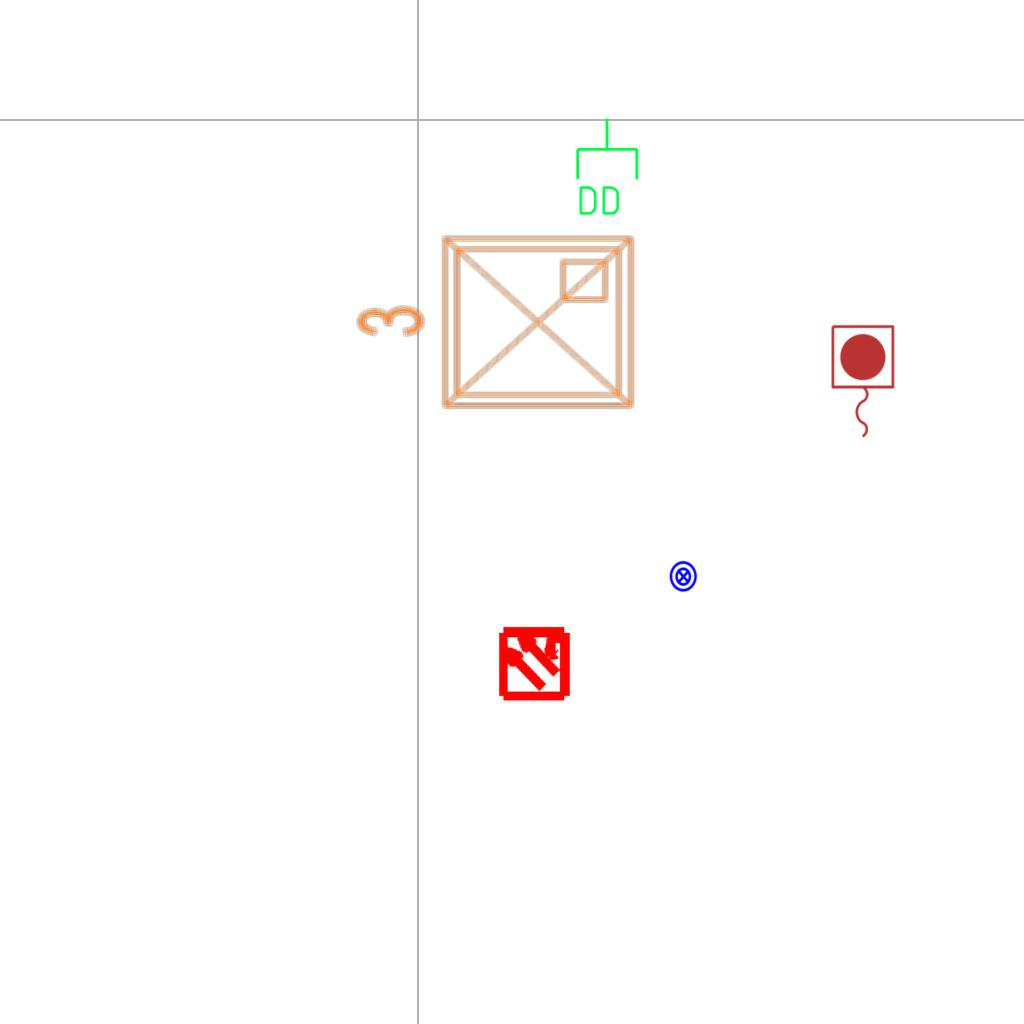Datenanschluss_zweifach: (572, 116, 641, 219)
Einbaudownlights_LED_Konferenzraeume: (347, 222, 647, 430)
OT_Multisensormelder_(Kombination_RMO_WMD): (478, 605, 591, 718)
Taster_beleuchtet: (667, 560, 700, 593)
Zugtaster: (826, 321, 898, 443)
